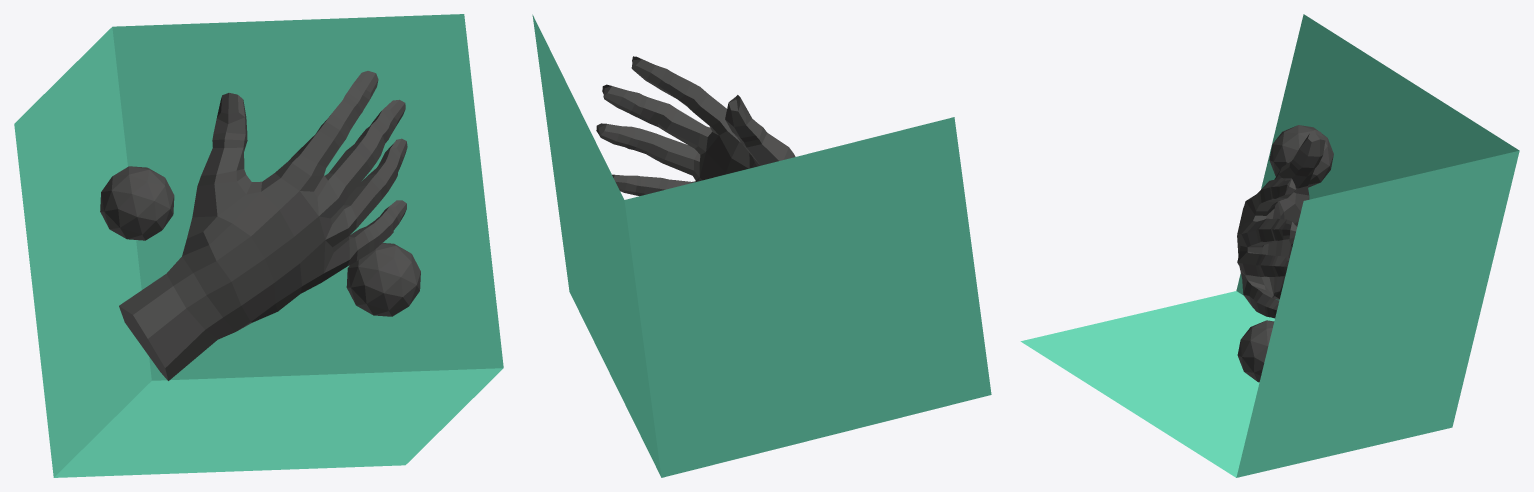
File: Icon.glb
3 renders of one model, left to right at view 1: azimuth 30°, elevation 25°; view 2: azimuth 150°, elevation 25°; view 3: azimuth 270°, elevation 25°, orthographic. The views are drawn at different scales.
Parts seen in each view (by area): view 1: Plane005; view 2: Plane005; view 3: Plane005.
Boxes of the visible parts, bbox=[...] form: Plane005: bbox=[14, 14, 503, 477]; Plane005: bbox=[532, 14, 991, 477]; Plane005: bbox=[1020, 14, 1519, 477].
Bounding box in the file's own units: 1.5 × 1.19 × 1.69.
